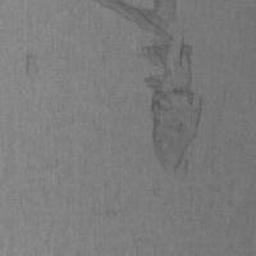Water spot: (88, 0, 205, 183), (24, 52, 40, 79)
